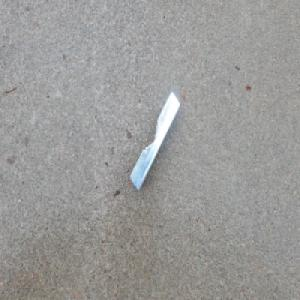ClampPart: (129, 90, 180, 192)
